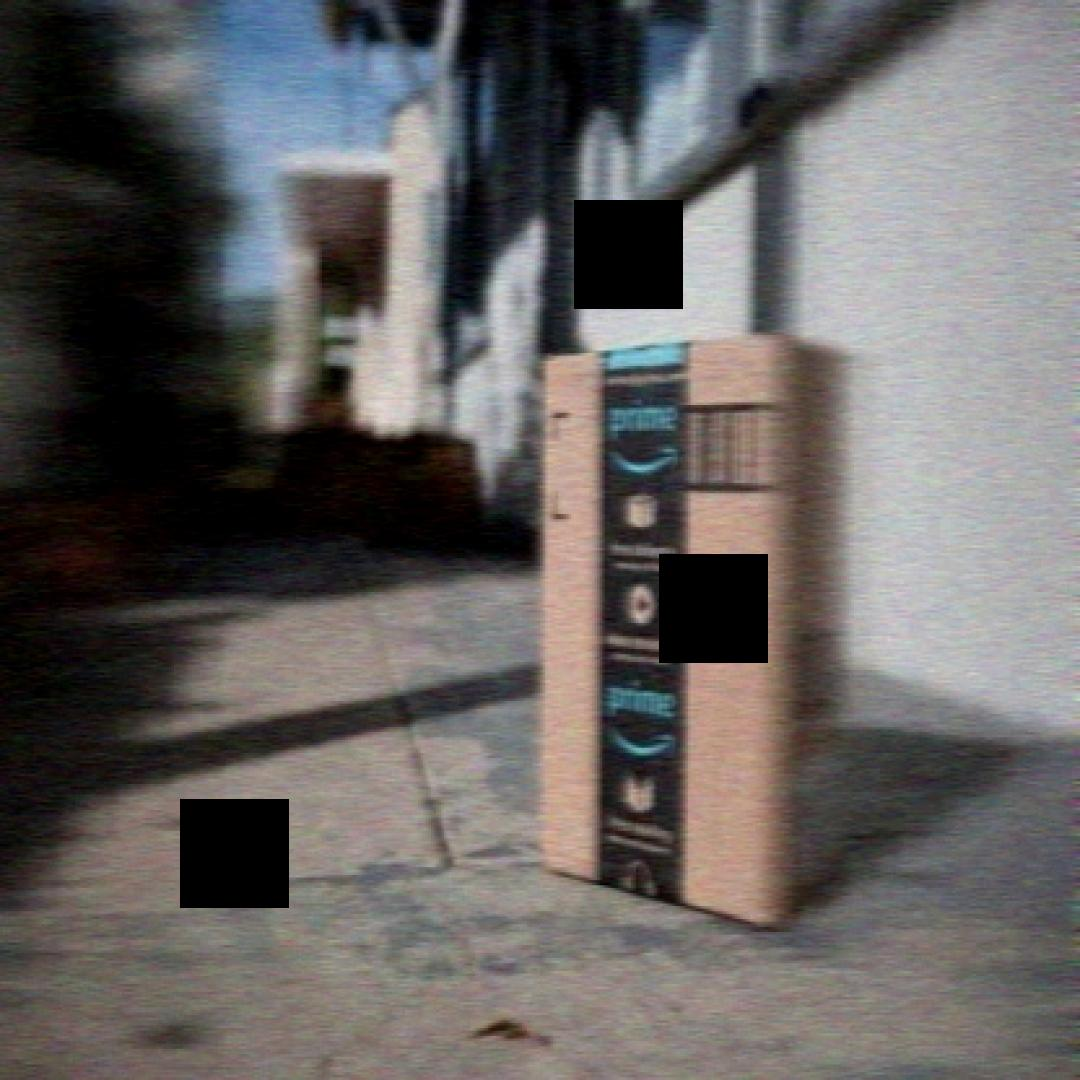package: (540, 324, 857, 945)
